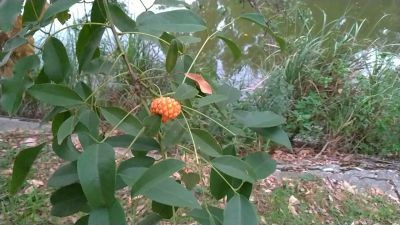eggs: (149, 93, 182, 124)
